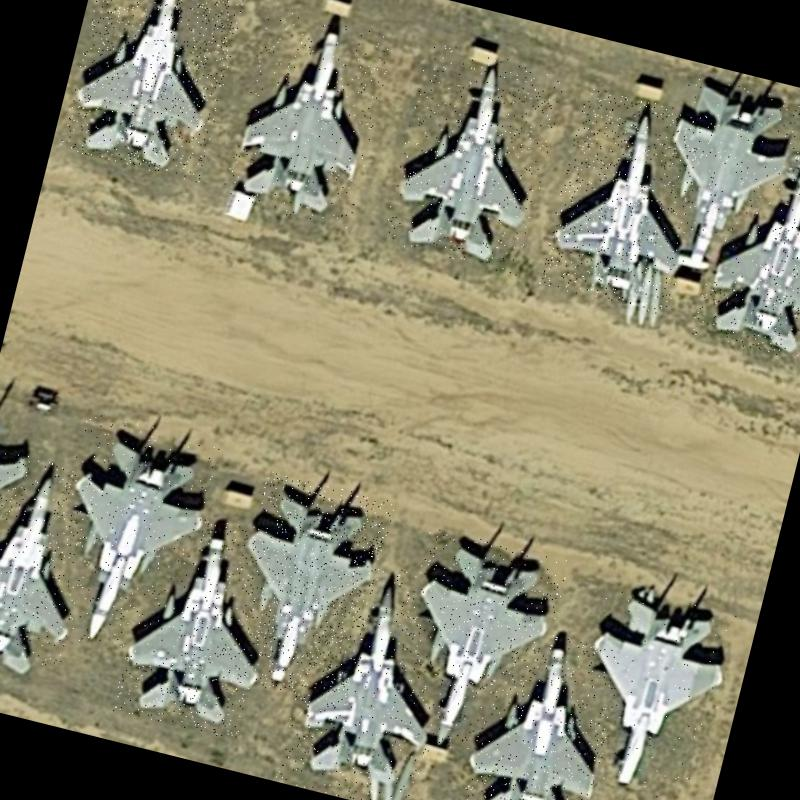A13: (274, 552, 469, 800), (33, 411, 222, 662), (378, 526, 570, 766), (380, 40, 568, 276), (216, 470, 395, 708), (112, 504, 288, 742), (538, 86, 716, 316), (220, 5, 396, 230), (560, 583, 741, 800), (643, 73, 800, 293), (59, 0, 246, 183), (456, 623, 627, 800), (690, 123, 800, 364), (0, 442, 107, 669)
